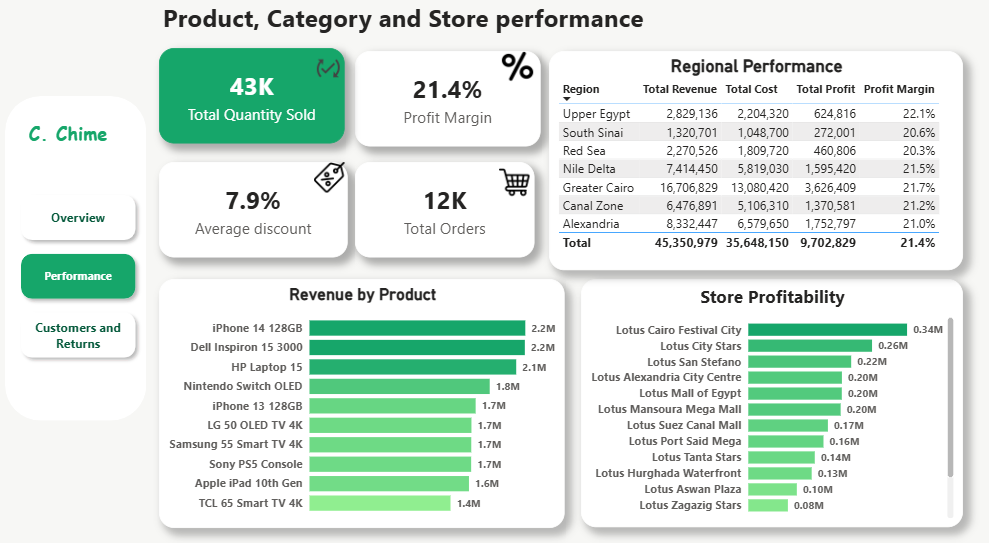

Layout of this report page (visuals, bound fields, positions):
{"tool":"powerbi","page":{"name":"Performance","canvas":[1300,720],"ordinal":1},"visuals":[{"type":"group","id":"g1","title":"Group 1","box":[10.1,133.9,185,425],"z":0},{"type":"shape","box":[10.1,133.9,185,425],"z":0,"group":"g1"},{"type":"cardVisual","fields":{"Data":["Measures table.Total Quantity Sold"]},"box":[211.7,70.6,243.4,125.3],"z":1000,"group":"g4"},{"type":"cardVisual","fields":{"Data":["Measures table.Profit Margin"]},"box":[468,74.9,243.4,125.3],"z":1000},{"type":"pageNavigator","box":[21.5,255,168.5,233.3],"z":1000,"group":"g1"},{"type":"textbox","box":[211.4,2.9,671.4,71.4],"z":2000},{"type":"cardVisual","fields":{"Data":["Measures table.Average discount"]},"box":[211.7,220.3,247,125.3],"z":2000,"group":"g2"},{"type":"barChart","title":"Revenue by Product","fields":{"Y":["Measures table.Total Revenue"],"Category":["dim_products.product_name"]},"box":[212.1,373.1,531.5,326],"z":3000},{"type":"cardVisual","fields":{"Data":["Measures table.Total Orders"]},"box":[468,220.3,235,125.3],"z":4000,"group":"g3"},{"type":"barChart","title":"Store Profitability","fields":{"Y":["Measures table.Total Profit"],"Category":["dim_stores.store_name"]},"box":[764.6,373,499.7,325.4],"z":4000},{"type":"tableEx","title":"Regional Performance","fields":{"Values":["dim_stores.Region","Measures table.Total Revenue","Measures table.Total Cost","Measures table.Total Profit","Measures table.Profit Margin"]},"box":[722.6,74.6,542,286.7],"z":6000},{"type":"textbox","box":[35.9,159.9,122.4,53.3],"z":6005,"group":"g1"},{"type":"image","box":[652.3,74.9,59,40.3],"z":7000},{"type":"group","id":"g2","title":"Group 2","box":[211.7,220.3,247,125.3],"z":8000},{"type":"group","id":"g3","title":"Group 3","box":[468,220.3,235,125.3],"z":9000},{"type":"image","box":[656.6,227,40.3,40.3],"z":9001,"group":"g3"},{"type":"image","box":[414.7,220.3,40.3,40.3],"z":9002,"group":"g2"},{"type":"image","box":[413.8,77,40.3,40.3],"z":9003,"group":"g4"},{"type":"group","id":"g4","title":"Group 4","box":[211.7,70.6,243.4,125.3],"z":10000}]}

Visuals, with their boxes in screenshot pixels (x1, y1, x2, y2), scaled from the page's 1300x720 canvas onto the 989x543 screenshot:
"Group 1" group: (x1=8, y1=101, x2=148, y2=422)
shape: (x1=8, y1=101, x2=148, y2=422)
cardVisual - Measures table.Total Quantity Sold: (x1=161, y1=53, x2=346, y2=148)
cardVisual - Measures table.Profit Margin: (x1=356, y1=56, x2=541, y2=151)
pageNavigator: (x1=16, y1=192, x2=145, y2=368)
textbox: (x1=161, y1=2, x2=672, y2=56)
cardVisual - Measures table.Average discount: (x1=161, y1=166, x2=349, y2=261)
"Revenue by Product" barChart: (x1=161, y1=281, x2=566, y2=527)
cardVisual - Measures table.Total Orders: (x1=356, y1=166, x2=535, y2=261)
"Store Profitability" barChart: (x1=582, y1=281, x2=962, y2=527)
"Regional Performance" tableEx: (x1=550, y1=56, x2=962, y2=272)
textbox: (x1=27, y1=121, x2=120, y2=161)
image: (x1=496, y1=56, x2=541, y2=87)
"Group 2" group: (x1=161, y1=166, x2=349, y2=261)
"Group 3" group: (x1=356, y1=166, x2=535, y2=261)
image: (x1=500, y1=171, x2=530, y2=202)
image: (x1=315, y1=166, x2=346, y2=197)
image: (x1=315, y1=58, x2=345, y2=88)
"Group 4" group: (x1=161, y1=53, x2=346, y2=148)
